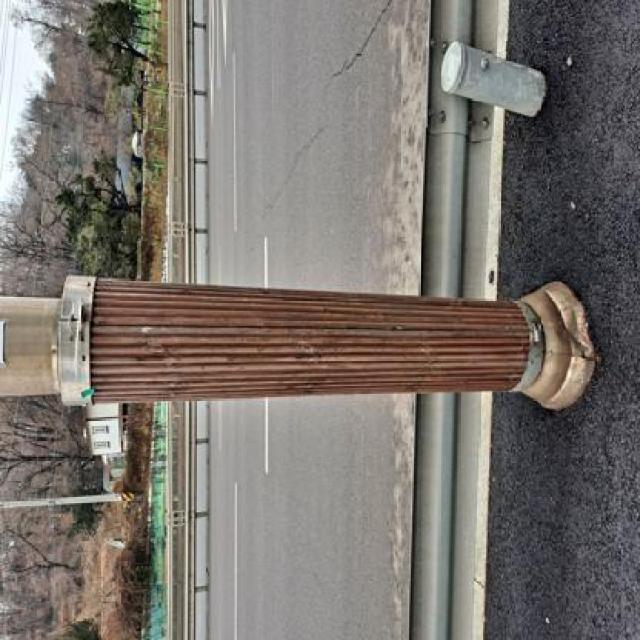pole: (43, 268, 611, 435)
